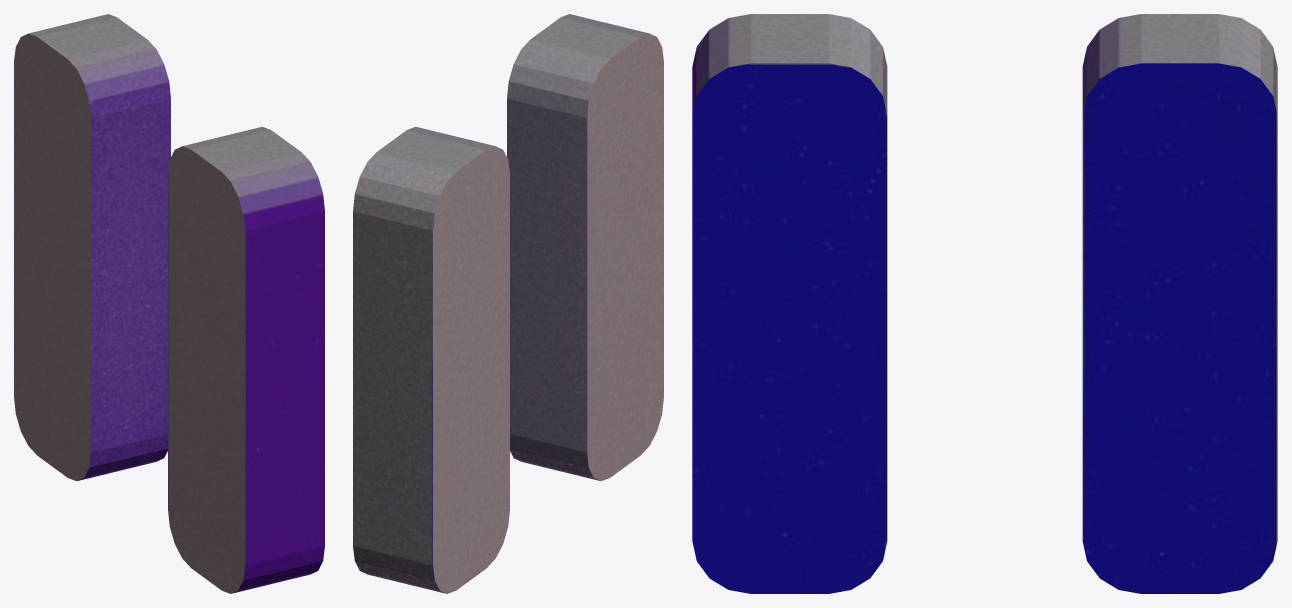
Rendered from touch_pause.glb.
3 renders of one model, left to right at view 1: azimuth 30°, elevation 25°; view 2: azimuth 150°, elevation 25°; view 3: azimuth 270°, elevation 25°, orthographic. The views are drawn at different scales.
Parts seen in each view (by area): view 1: touch_pause; view 2: touch_pause; view 3: touch_pause.
Part boxes in pixels (x1,y1,x2,y2): touch_pause: (14, 14, 324, 593); touch_pause: (353, 14, 663, 593); touch_pause: (692, 14, 1277, 593).
Size of the model in its own units: 0.14 by 0.7 by 0.7.
Materials: 1 (1 with a texture image).
